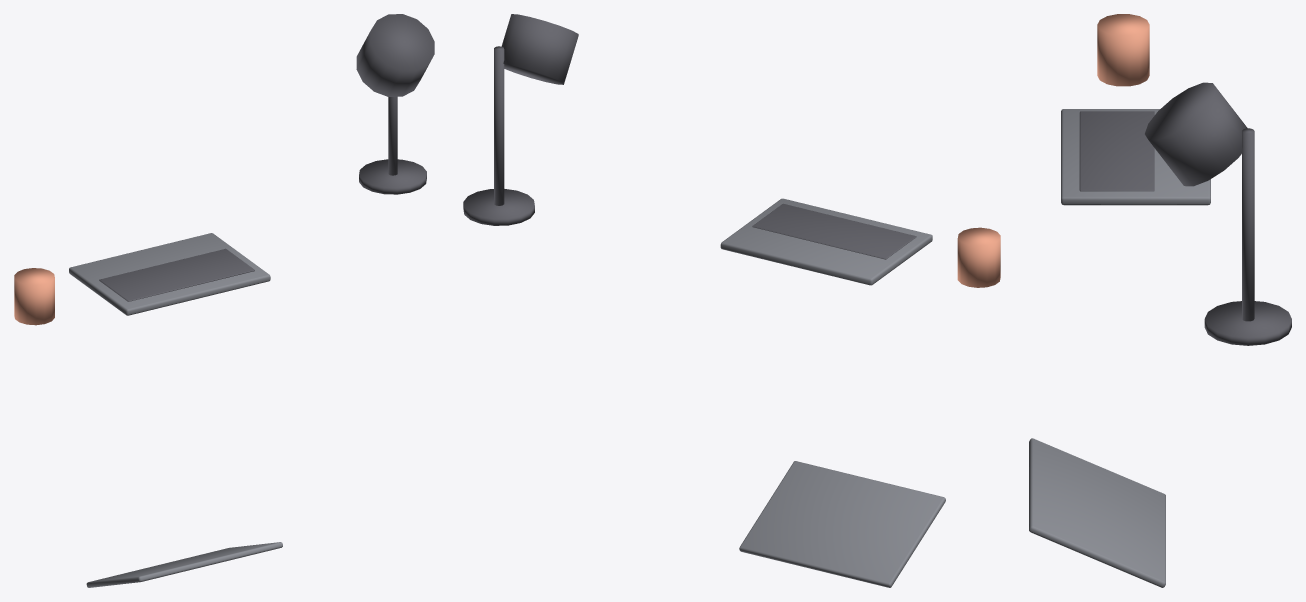
The model's file is Modular_Laptop_Lamp_Mug.fbx.
The picture shows the model from 3 angles, left to right: view 1: azimuth 30°, elevation 25°; view 2: azimuth 150°, elevation 25°; view 3: azimuth 270°, elevation 25°; orthographic projection. The views are drawn at different scales.
Visible parts, largest first — view 1: Modular_Laptop_Lamp_Mug; view 2: Modular_Laptop_Lamp_Mug; view 3: Modular_Laptop_Lamp_Mug.
Boxes of the visible parts, left/top/right/bottom form: Modular_Laptop_Lamp_Mug: left=14, top=14, right=434, bottom=587; Modular_Laptop_Lamp_Mug: left=463, top=14, right=1000, bottom=587; Modular_Laptop_Lamp_Mug: left=1029, top=14, right=1291, bottom=587.
Size of the model in its own units: 107 by 108 by 42.14.
